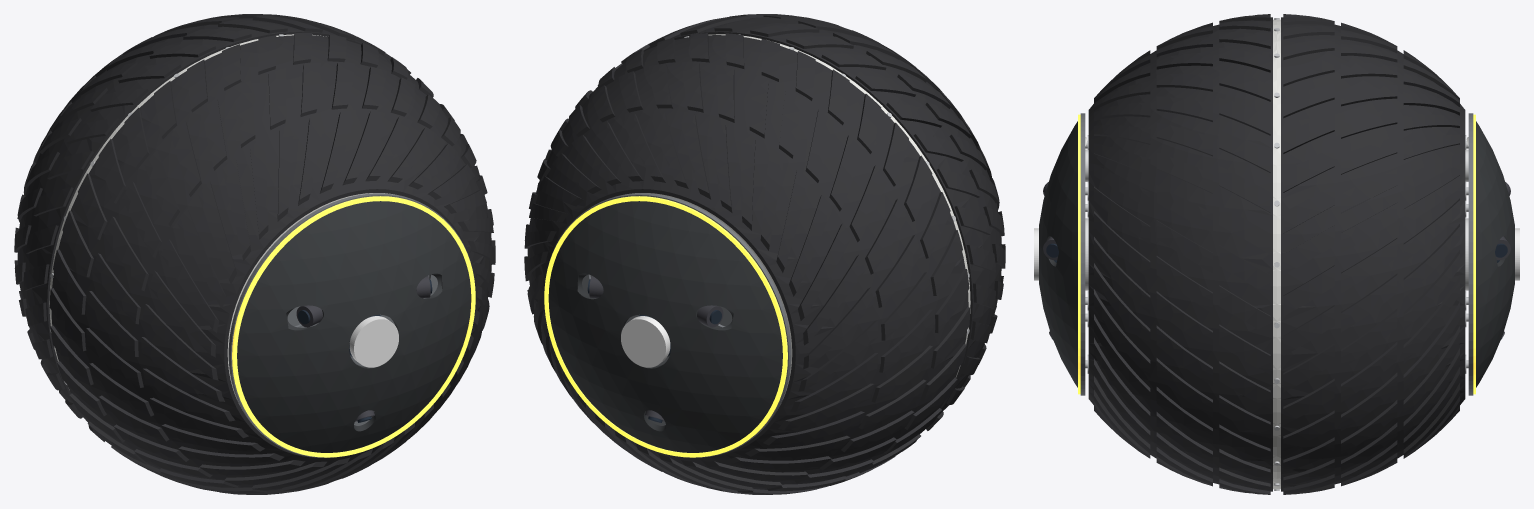
The model's file is gyra_mk1.glb.
The picture shows the model from 3 angles, left to right: view 1: azimuth 30°, elevation 25°; view 2: azimuth 150°, elevation 25°; view 3: azimuth 270°, elevation 25°; orthographic projection.
Visible parts, largest first — view 1: lugs_R, tread_base_R, pod_shield_R, lugs_L, tread_base_L, led_ring_R, pod_plate_R, lidar_body_R, drum_L, drum_R; view 2: lugs_L, tread_base_L, pod_shield_L, lugs_R, tread_base_R, led_ring_L, pod_plate_L, lidar_body_L, drum_R, drum_L; view 3: lugs_L, lugs_R, tread_base_L, tread_base_R, pod_shield_L, pod_shield_R, drum_L, drum_R, pod_plate_L, pod_plate_R, led_ring_L, led_ring_R.
Part boxes in pixels (box(x1,y1,x2,y2)): lugs_R: box(49, 33, 495, 494); tread_base_R: box(51, 35, 491, 490); pod_shield_R: box(237, 201, 471, 452); lugs_L: box(14, 14, 410, 441); tread_base_L: box(17, 18, 389, 422); led_ring_R: box(232, 196, 475, 457); pod_plate_R: box(228, 193, 472, 457); lidar_body_R: box(349, 316, 398, 367); drum_L: box(49, 34, 326, 389); drum_R: box(52, 52, 394, 404); lugs_L: box(524, 33, 969, 494); tread_base_L: box(527, 35, 968, 489); pod_shield_L: box(548, 201, 782, 452); lugs_R: box(597, 14, 1005, 451); tread_base_R: box(643, 17, 1001, 433); led_ring_L: box(544, 196, 787, 457); pod_plate_L: box(547, 193, 791, 457); lidar_body_L: box(621, 316, 670, 367); drum_R: box(708, 34, 970, 377); drum_L: box(625, 51, 968, 404); lugs_L: box(1283, 14, 1459, 494); lugs_R: box(1094, 14, 1270, 494); tread_base_L: box(1281, 17, 1465, 491); tread_base_R: box(1088, 17, 1272, 491); pod_shield_L: box(1476, 121, 1514, 387); pod_shield_R: box(1039, 121, 1077, 387); drum_L: box(1277, 19, 1280, 489); drum_R: box(1273, 19, 1276, 489); pod_plate_L: box(1468, 113, 1473, 395); pod_plate_R: box(1080, 113, 1085, 395); led_ring_L: box(1473, 114, 1475, 394); led_ring_R: box(1078, 114, 1080, 394).
Bounding box in the file's own units: 0.5998 × 0.5998 × 0.606.
